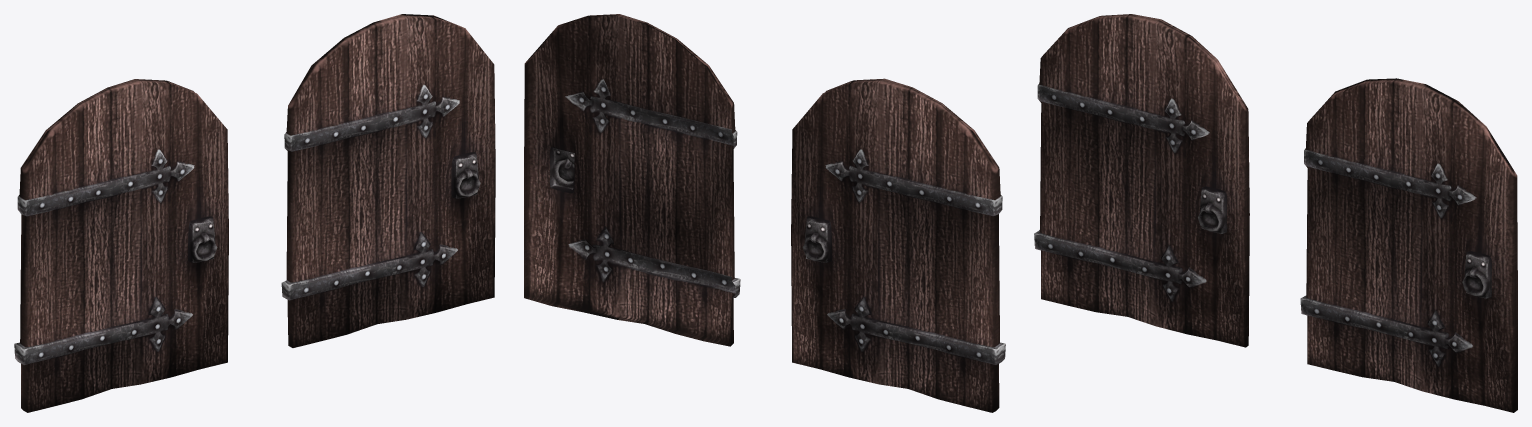
Rendered from Door Arch.FBX.
The picture shows the model from 3 angles, left to right: view 1: azimuth 30°, elevation 25°; view 2: azimuth 150°, elevation 25°; view 3: azimuth 330°, elevation 25°; orthographic projection.
Visible parts, largest first — view 1: Door Arch Half, Door Arch; view 2: Door Arch Half, Door Arch; view 3: Door Arch Half, Door Arch.
Part boxes in pixels (x1,y1,x2,y2): Door Arch Half: (281, 14, 495, 347); Door Arch: (14, 79, 228, 412); Door Arch Half: (524, 14, 740, 346); Door Arch: (791, 78, 1005, 412); Door Arch Half: (1300, 78, 1517, 412); Door Arch: (1034, 14, 1249, 347).
Bounding box in the file's own units: 344 × 27.32 × 211.
1 material, 1 textured.
